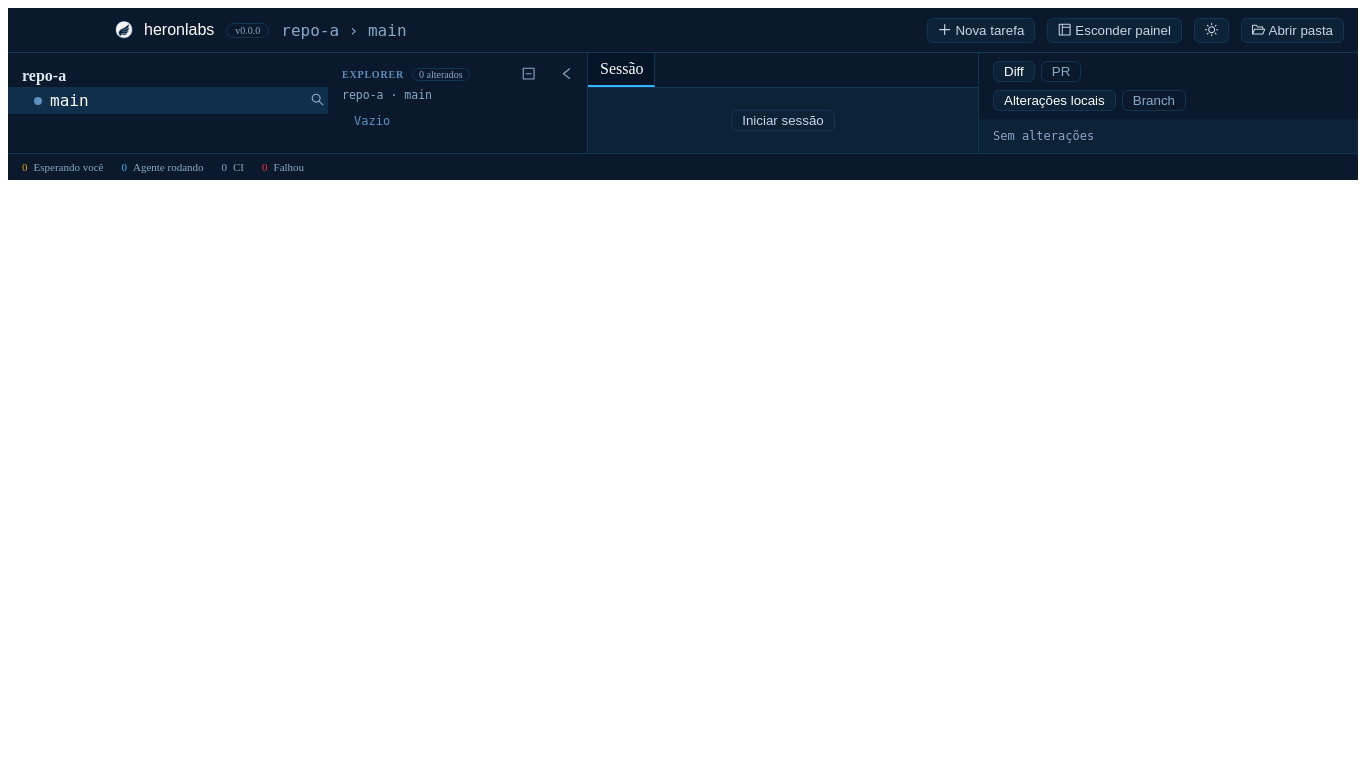
Test: AppShell › Should open the dialog from the button, defaulting to the selected repo
Click the button "Nova tarefa": click(981, 30) [927,18,1035,42]
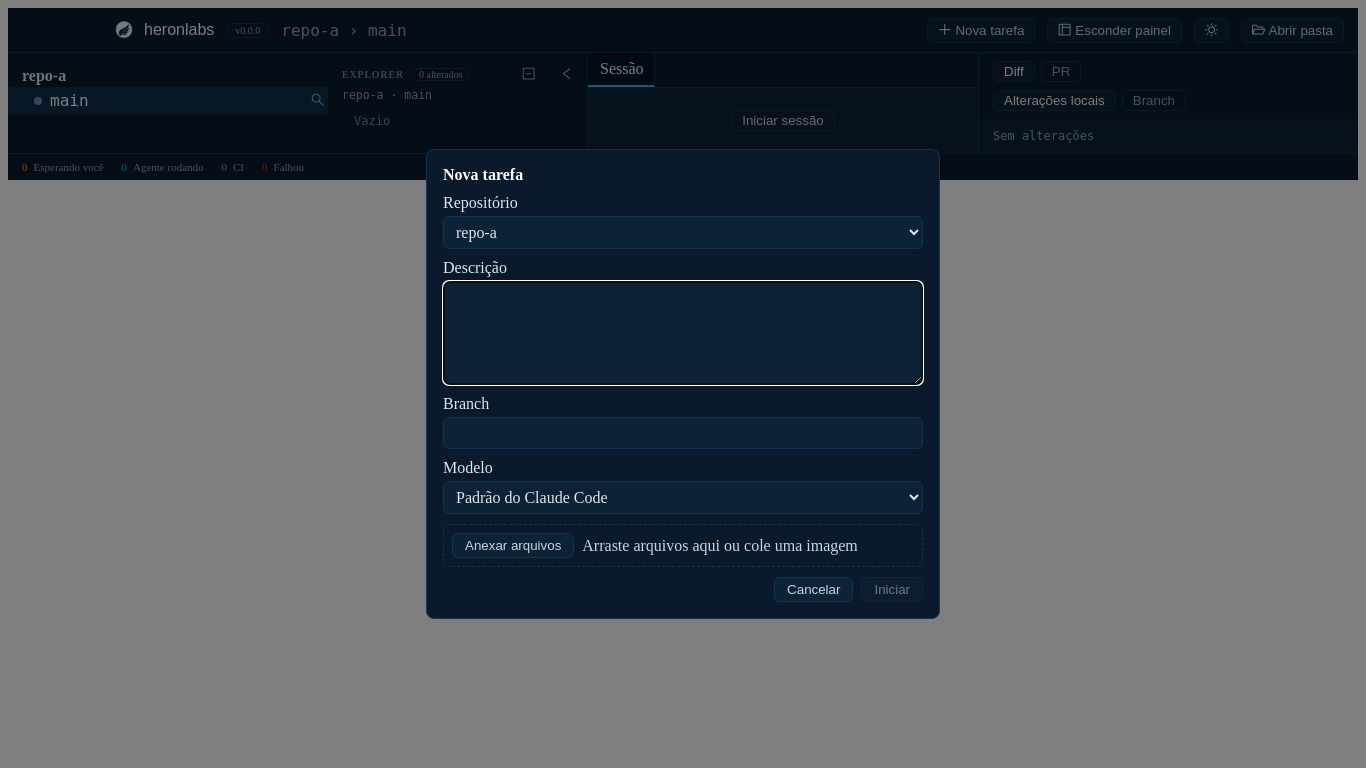
Expected: the dialog "Nova tarefa" is shown, [426,149,940,619]
Expected: the dropdown labelled "Repositório" shows "repo-a", [443,216,923,249]
